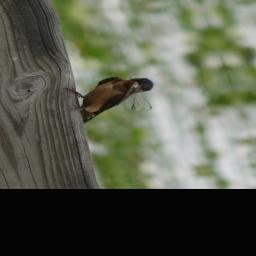Swallow: (55, 73, 166, 125)
